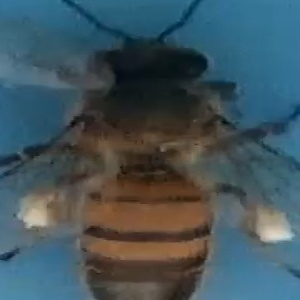bee: (8, 12, 297, 300)
